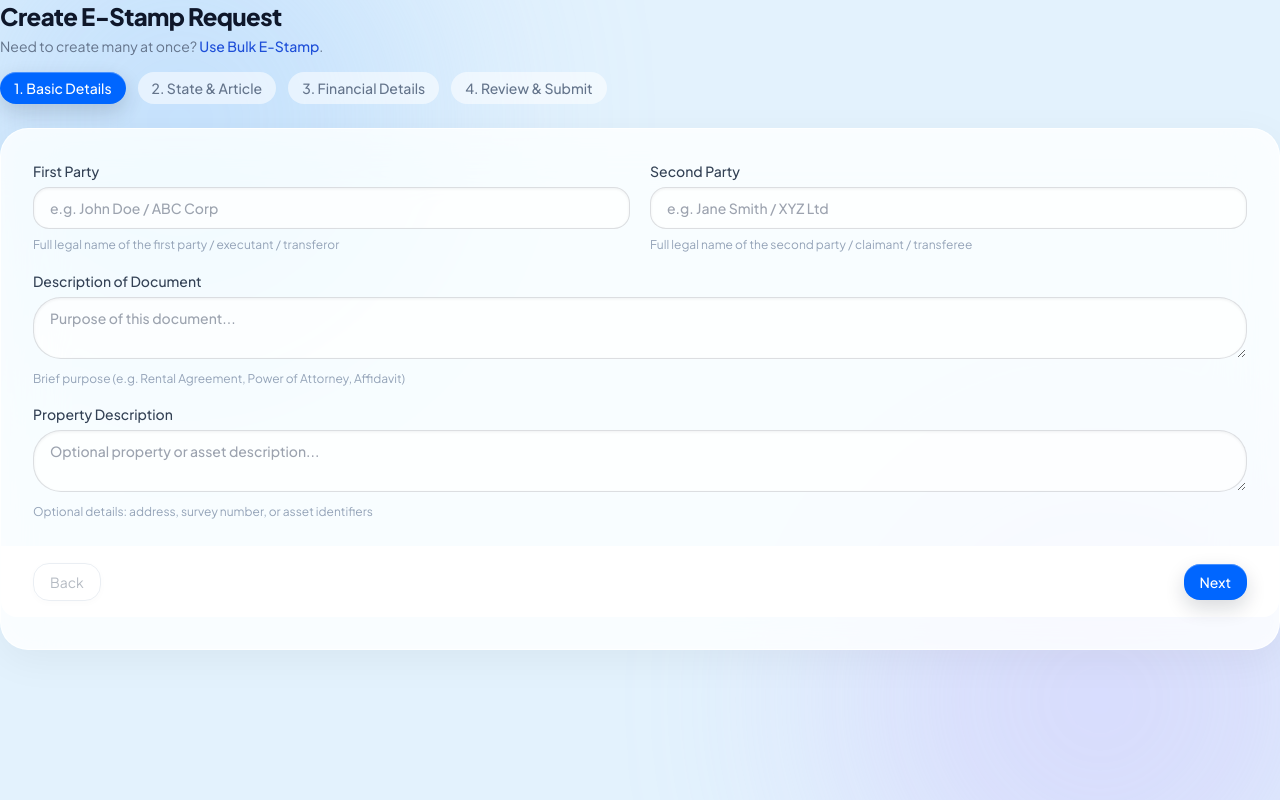
NewRequestPage - State & Article step uses the full state master › lists every seeded state by full name and shows a no-articles message for a state with none imported
Note: firstParty, secondParty, descriptionOfDocument are the first three text inputs.
Type "Alice" into the field labelled "First Party" at {"x": 332, "y": 208}, box [33,187,630,229]
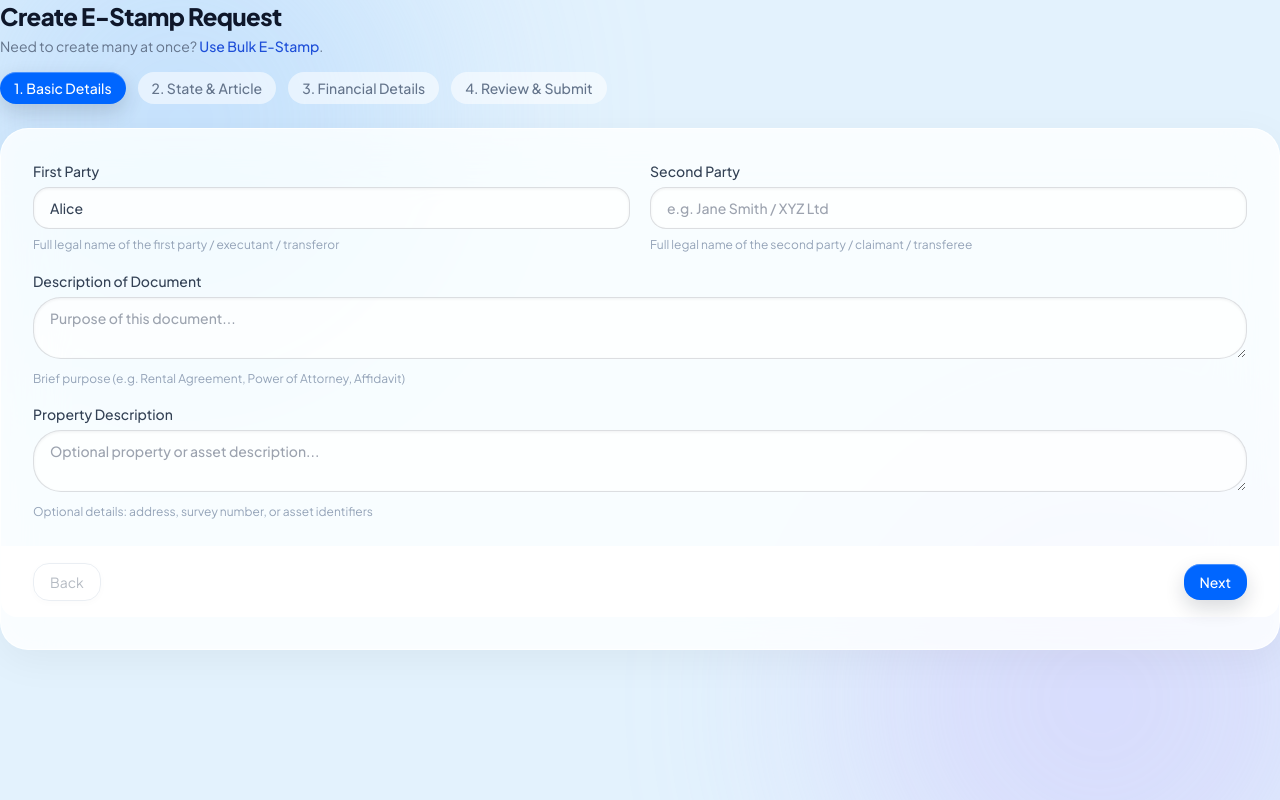
Type "Bob" into the field labelled "Second Party" at {"x": 948, "y": 208}, box [650,187,1247,229]
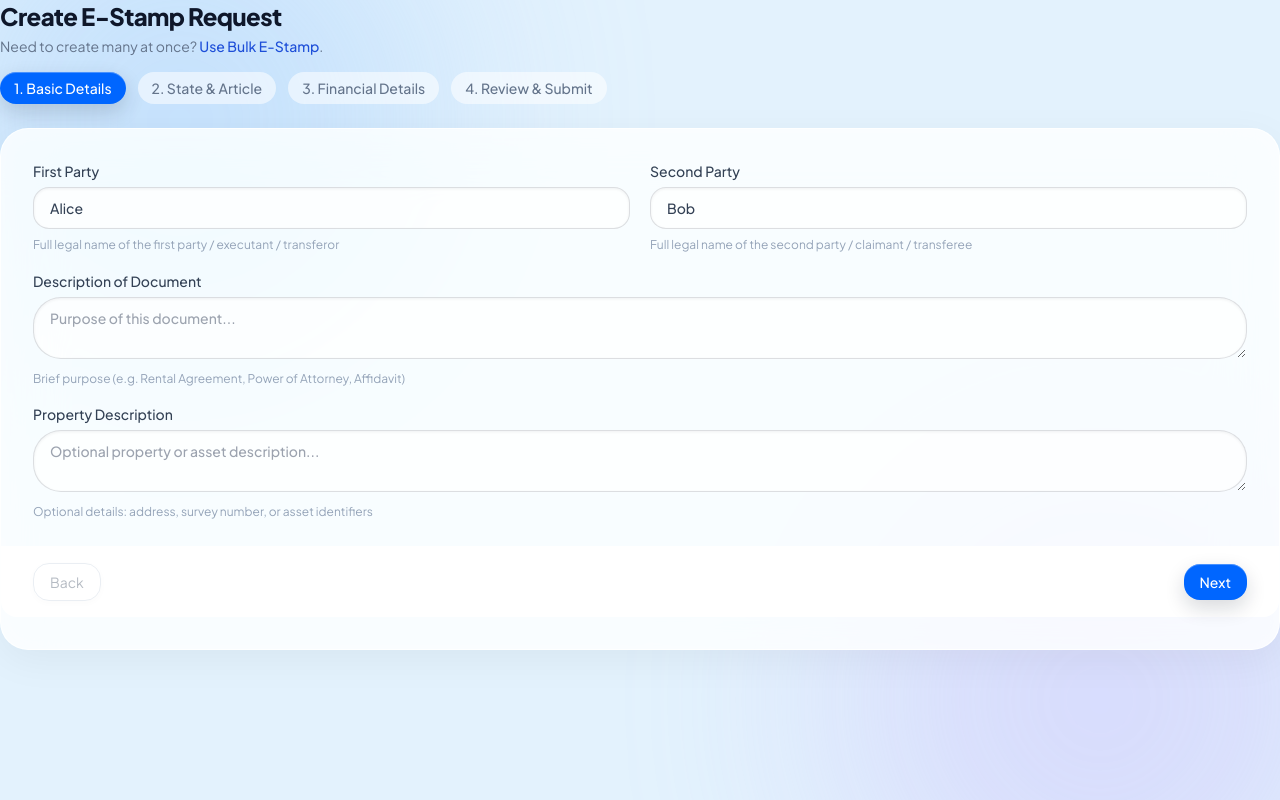
Type "Agreement for testing purposes only" into the text box labelled "Description of Document" at {"x": 640, "y": 328}, box [33,296,1247,358]
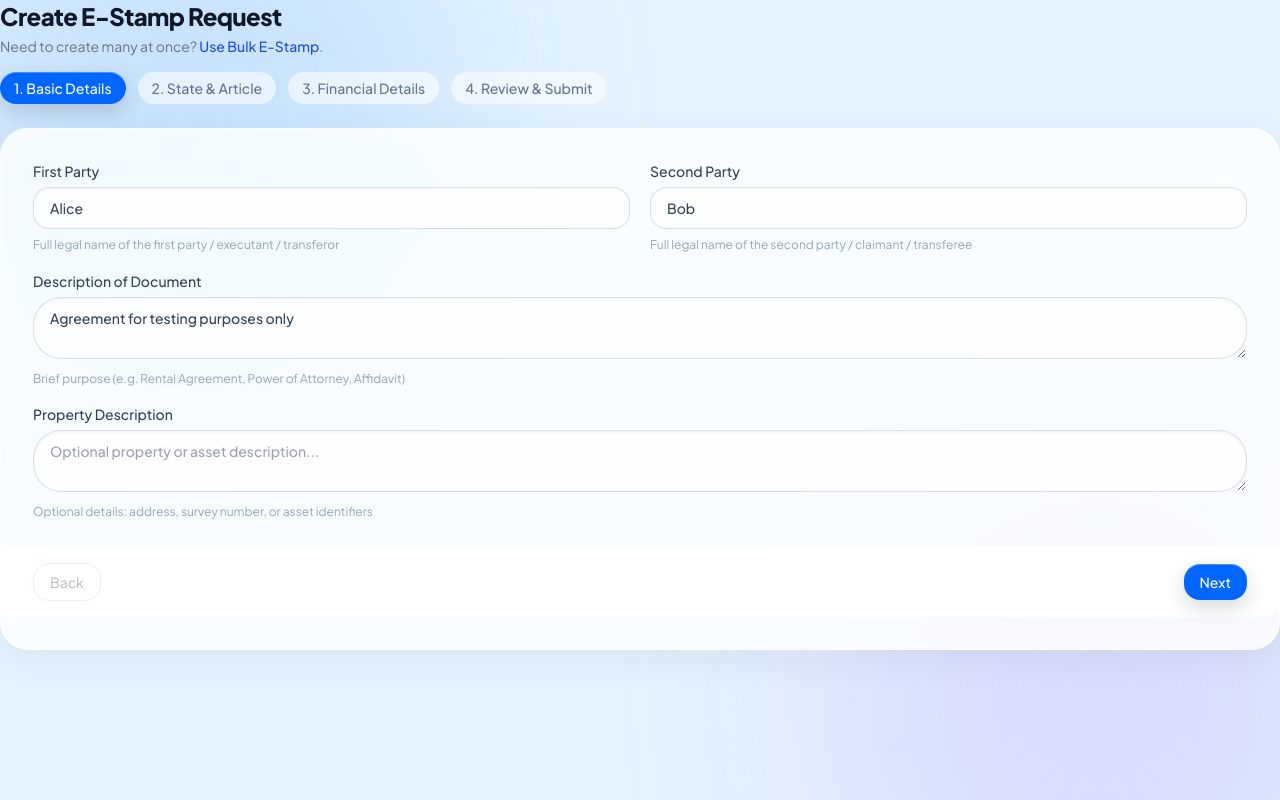
Click the button "Next" at {"x": 1215, "y": 582}, box [1184,564,1247,600]
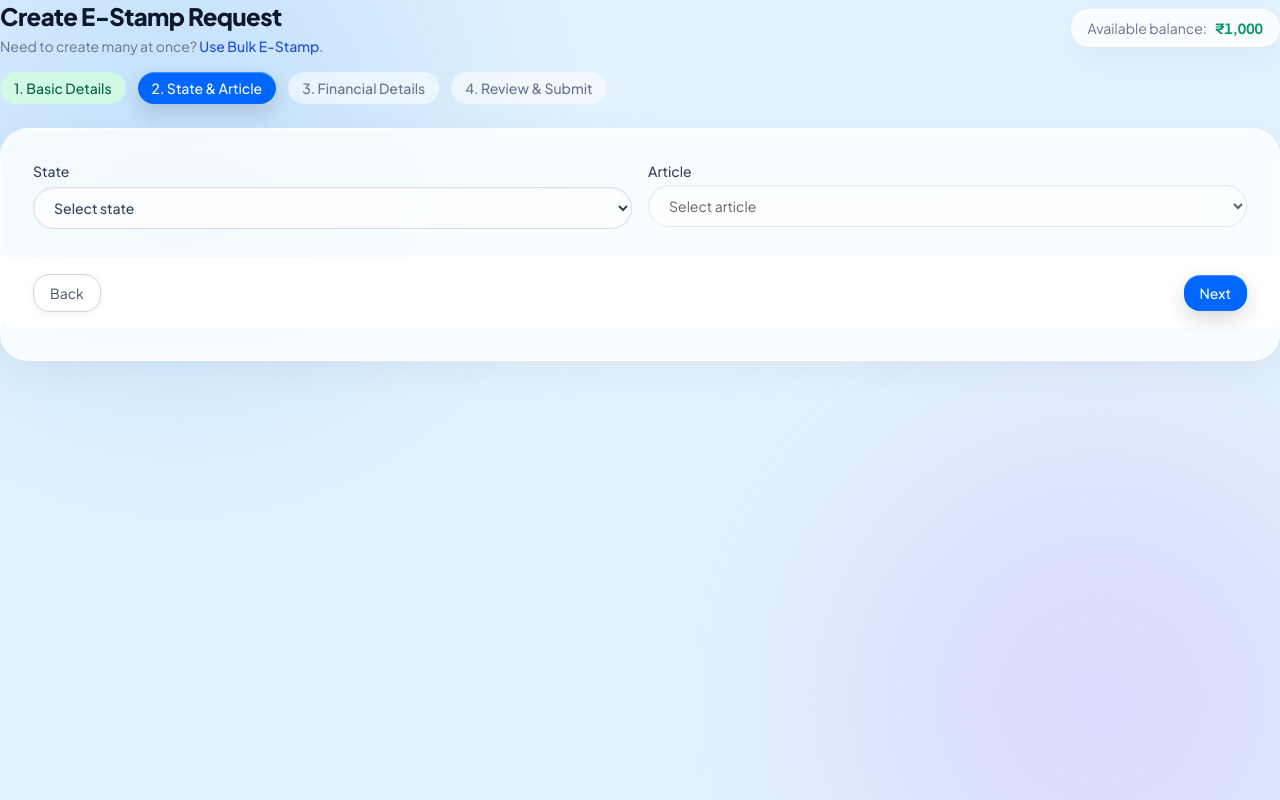
Select "Delhi" in the dropdown labelled "State" at {"x": 332, "y": 208}, box [33,187,632,229]
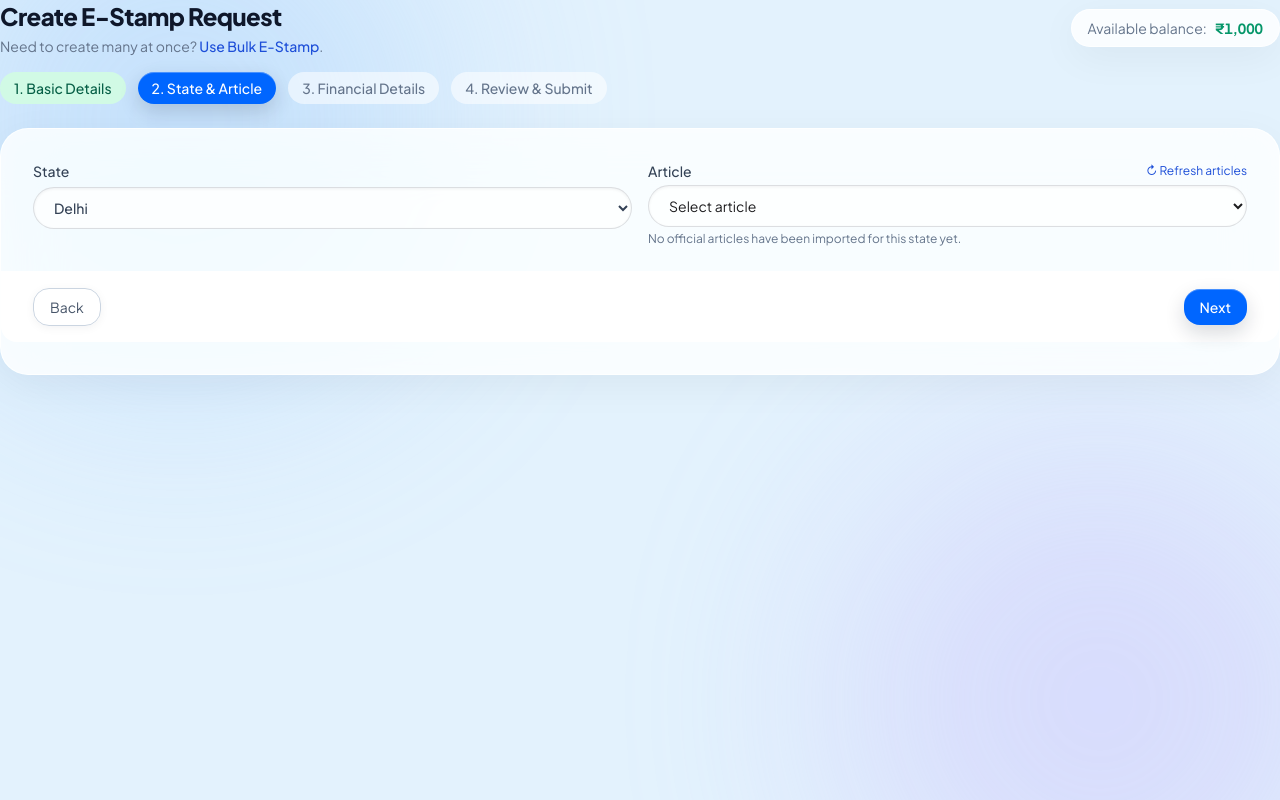
Now the text "No official articles have been imported for this state yet." is shown, box [648,231,961,246]
Select "Karnataka" in the dropdown labelled "State" at {"x": 332, "y": 208}, box [33,187,632,229]
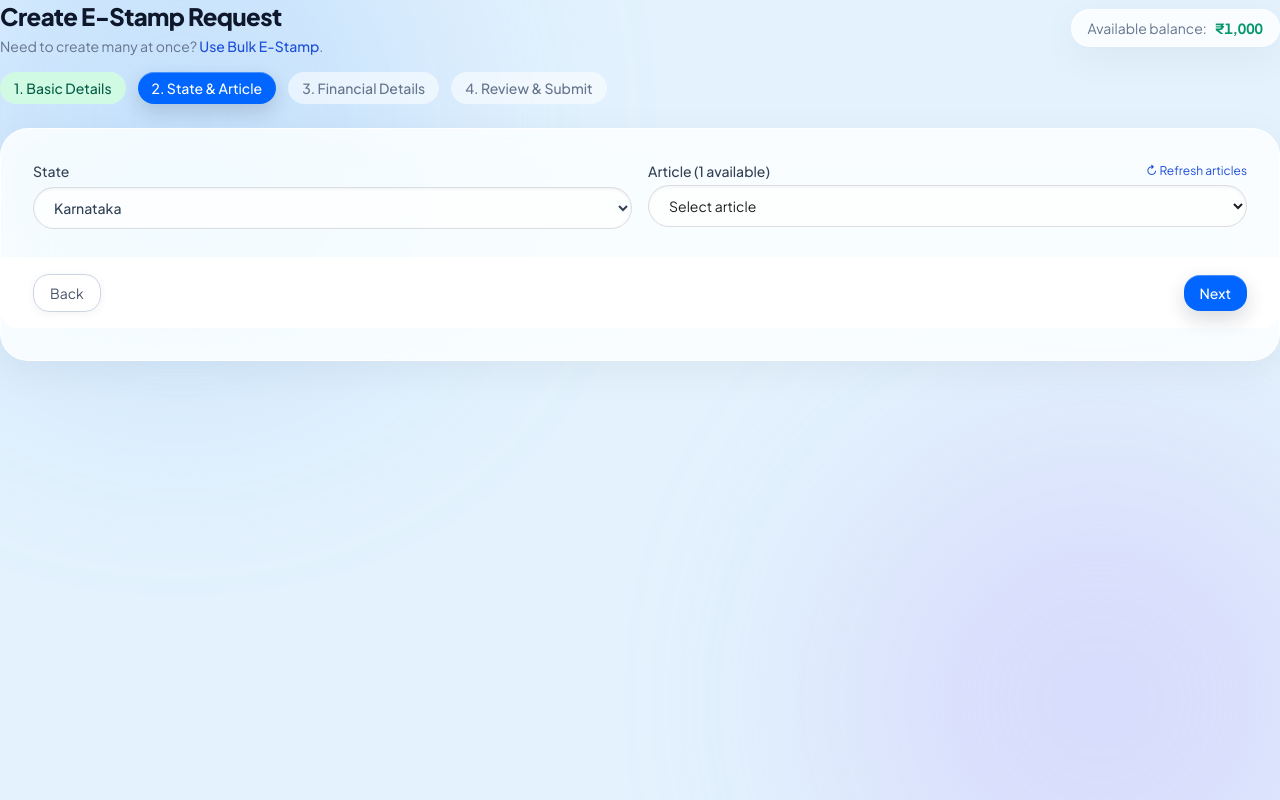
Now the text "No official articles have been imported for this state yet." is gone
